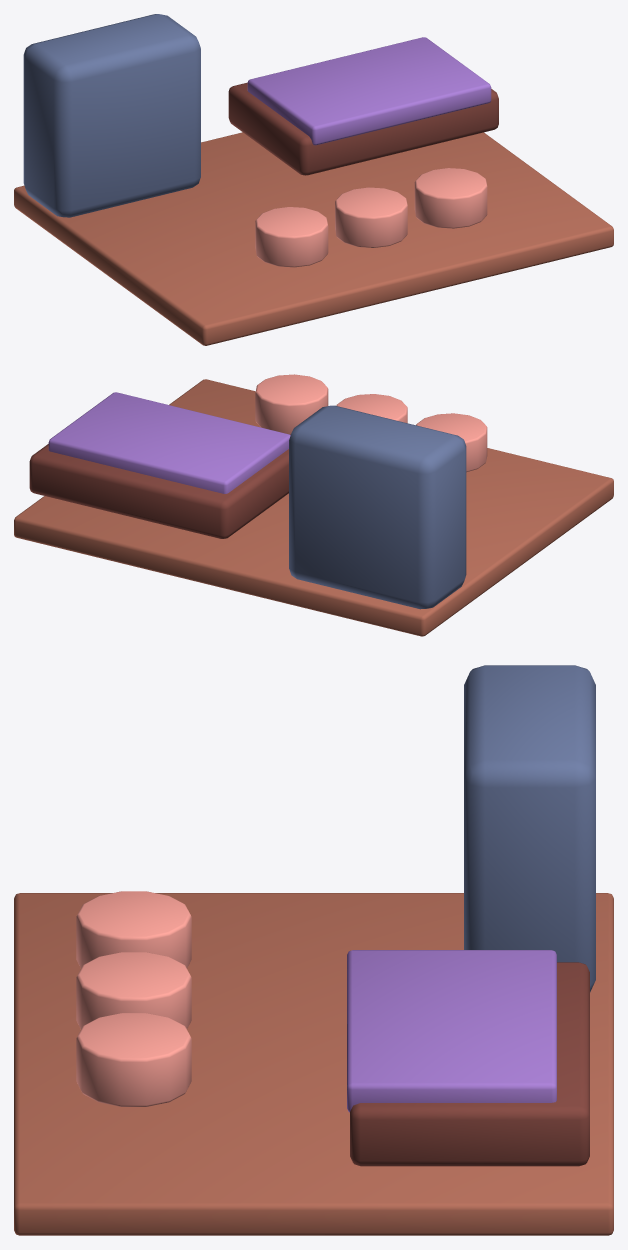
The model's file is r085_development_alpine_interiors_alpine_interior.glb.
3 renders of one model, top to bottom at view 1: azimuth 30°, elevation 25°; view 2: azimuth 150°, elevation 25°; view 3: azimuth 270°, elevation 25°, orthographic. The views are drawn at different scales.
Visible parts, largest first — view 1: r085_development_alpine_interiors_alpine_interior.001; view 2: r085_development_alpine_interiors_alpine_interior.001; view 3: r085_development_alpine_interiors_alpine_interior.001.
Boxes of the visible parts, x1=… form: r085_development_alpine_interiors_alpine_interior.001: x1=14, y1=14, x2=613, y2=345; r085_development_alpine_interiors_alpine_interior.001: x1=14, y1=374, x2=613, y2=636; r085_development_alpine_interiors_alpine_interior.001: x1=14, y1=665, x2=613, y2=1235.
Bounding box in the file's own units: 6.2 × 2.45 × 5.
